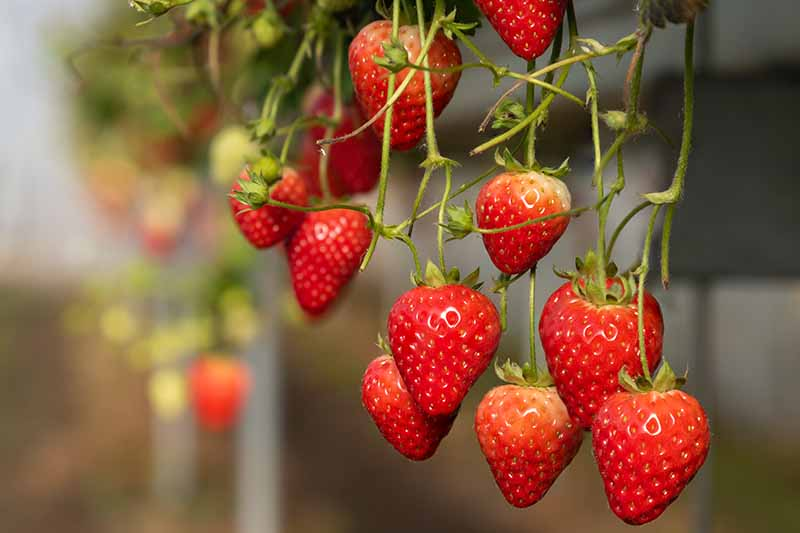ripe: (538, 264, 669, 438), (588, 376, 714, 526), (385, 275, 507, 415), (475, 373, 594, 511), (347, 20, 465, 152), (354, 348, 470, 464), (284, 198, 382, 321), (473, 167, 576, 278), (305, 94, 389, 201), (231, 159, 311, 252), (473, 0, 569, 63), (185, 348, 257, 432)
unripe: (251, 153, 286, 185), (238, 180, 269, 209)
